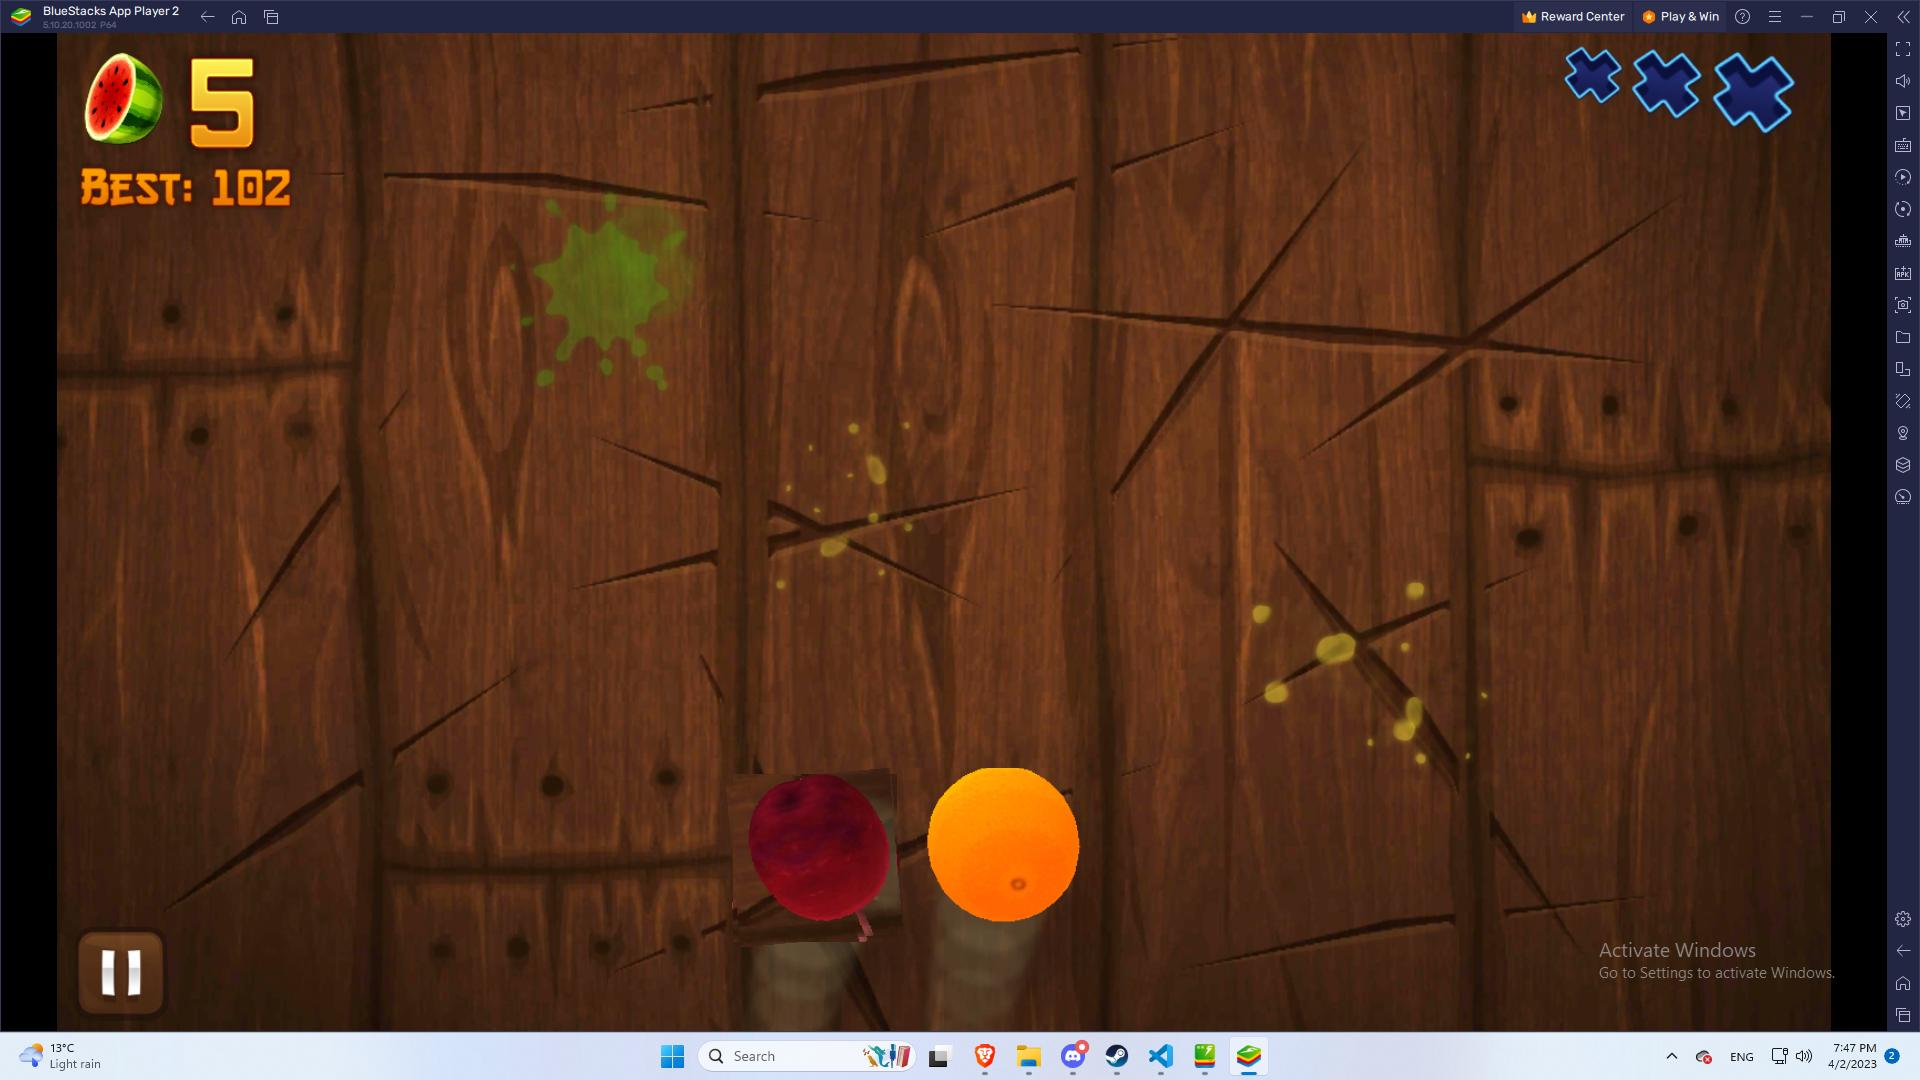fruit: (916, 769, 1110, 926), (729, 771, 902, 944)
